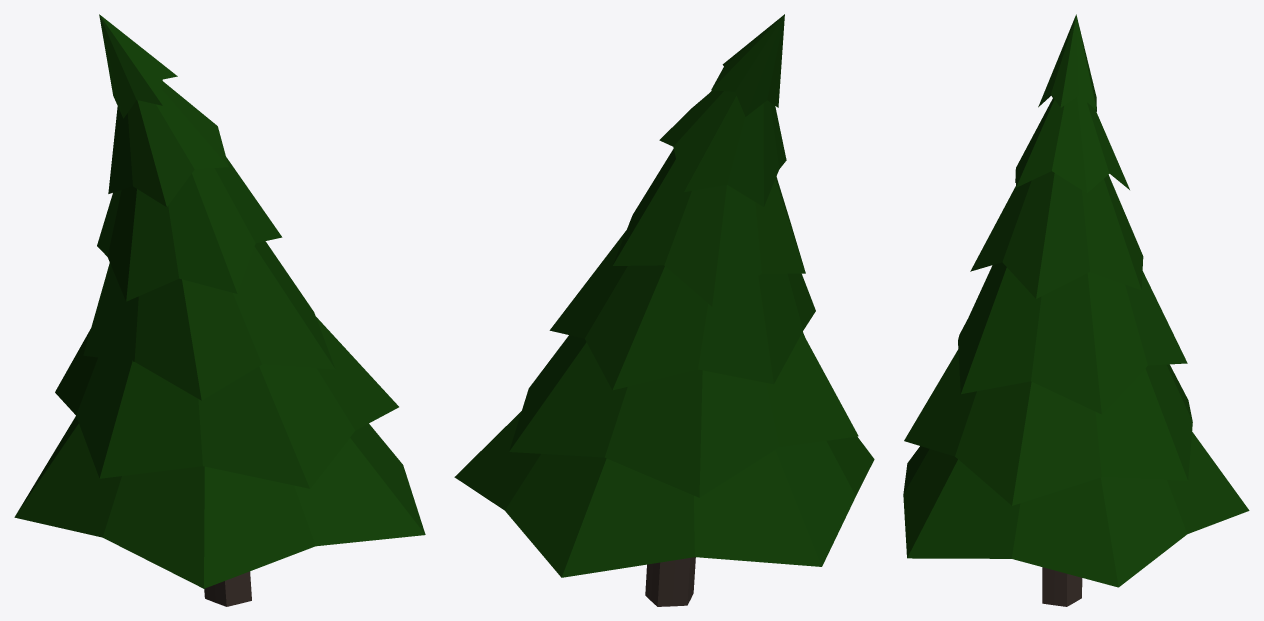
Rendered from Pine_Tree_2_Summer.fbx.
3 views of the same model, side by side, from view 1: azimuth 30°, elevation 25°; view 2: azimuth 150°, elevation 25°; view 3: azimuth 270°, elevation 25° (orthographic). The views are drawn at different scales.
Parts seen in each view (by area): view 1: Pine_Tree_2_Summer; view 2: Pine_Tree_2_Summer; view 3: Pine_Tree_2_Summer.
Part boxes in pixels (left/top/right/bottom): Pine_Tree_2_Summer: left=14, top=14, right=425, bottom=606; Pine_Tree_2_Summer: left=454, top=14, right=874, bottom=606; Pine_Tree_2_Summer: left=903, top=14, right=1249, bottom=606.
Size of the model in its own units: 396 by 639 by 377.
